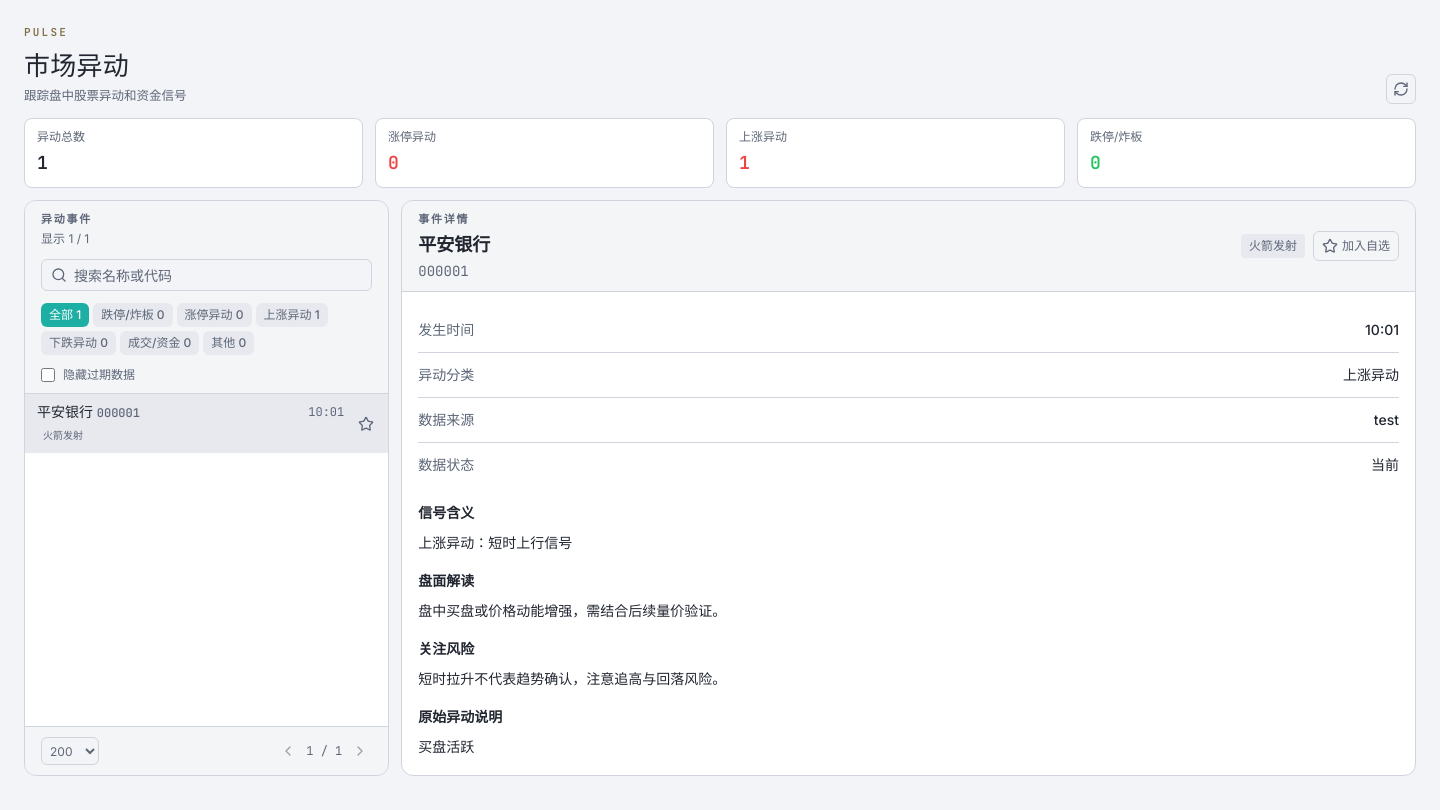
Test: MarketPulsePanel › clears filters after an empty filtered result
Type "不存在" into the search field named "搜索市场异动" at coordinates (207, 275), box [41,259,372,291]
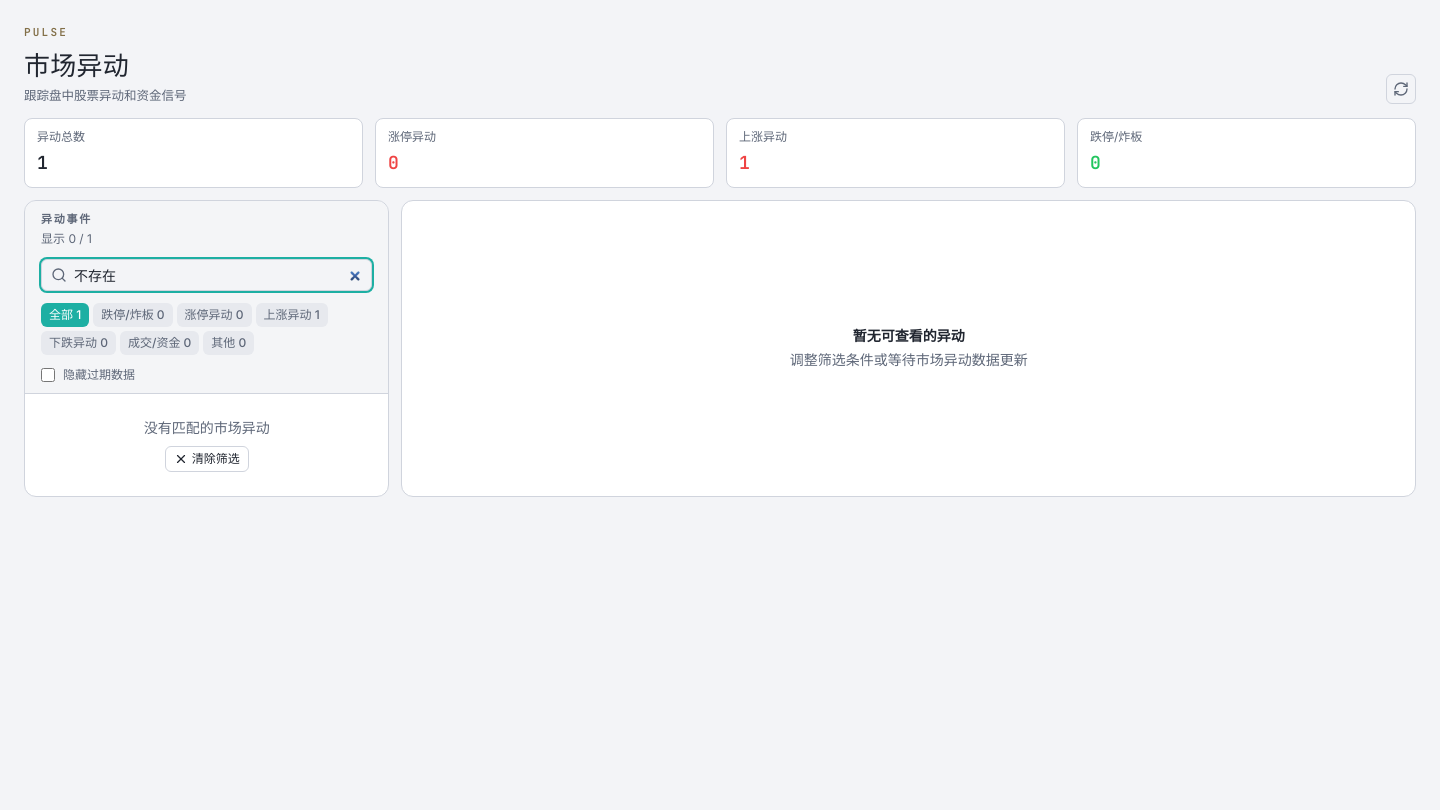
Expected: the text "没有匹配的市场异动" is shown, [144,419,270,436]
Click the button "清除筛选" at coordinates (207, 459), box [165,446,249,472]
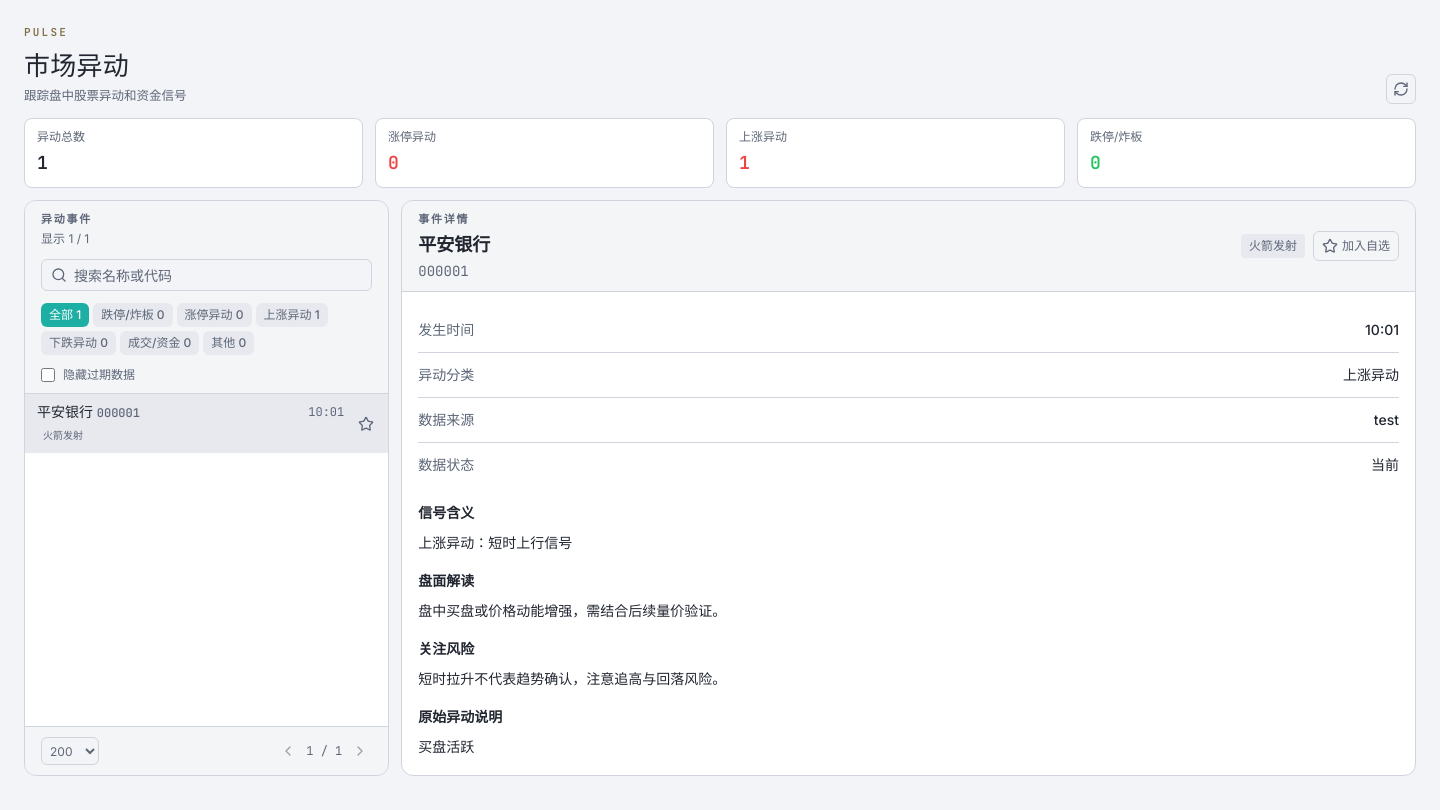
Expected: the button "平安银行 000001 10:01 火箭发射" is shown, [33,394,348,453]
